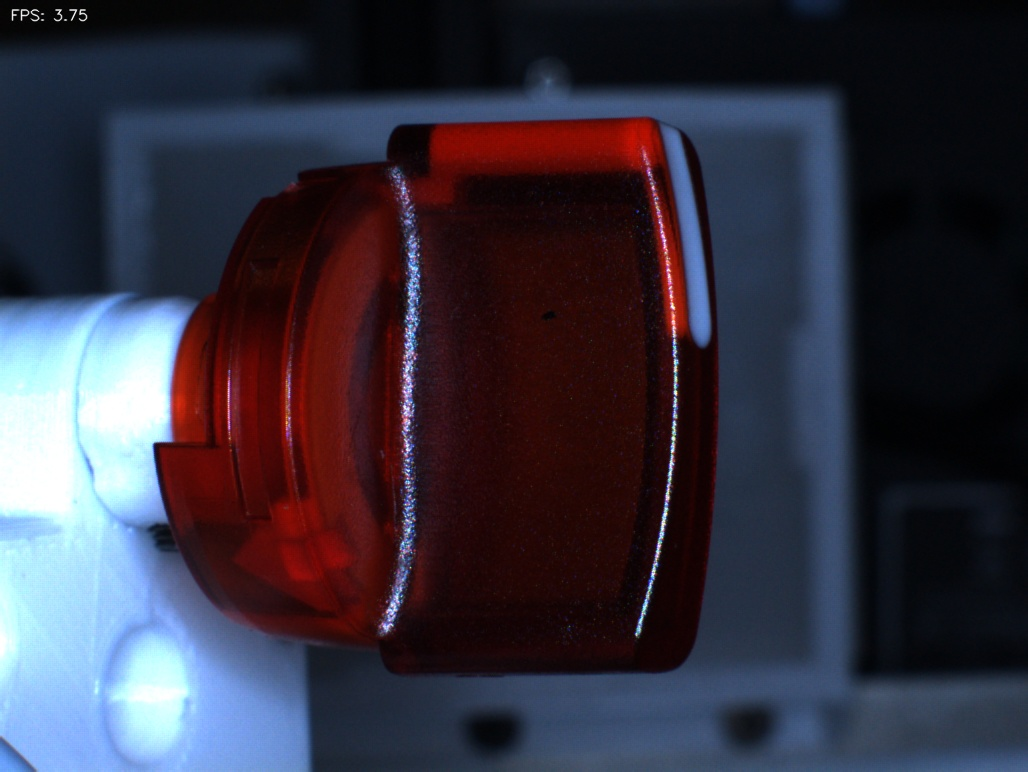PointNoir: (513, 279, 581, 359)
